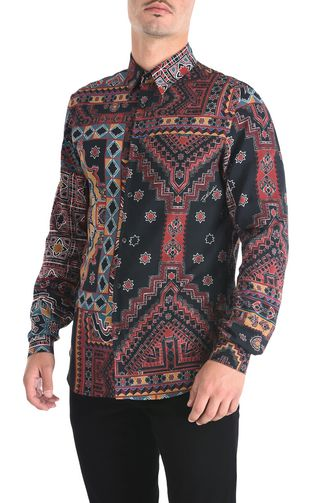Shirt: (20, 65, 293, 358)
